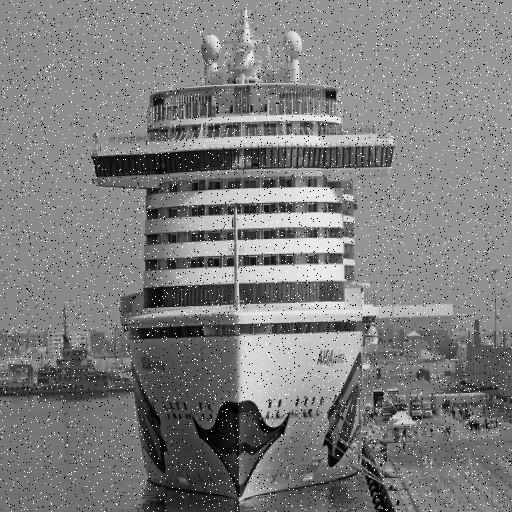cruises: (79, 5, 401, 511)
